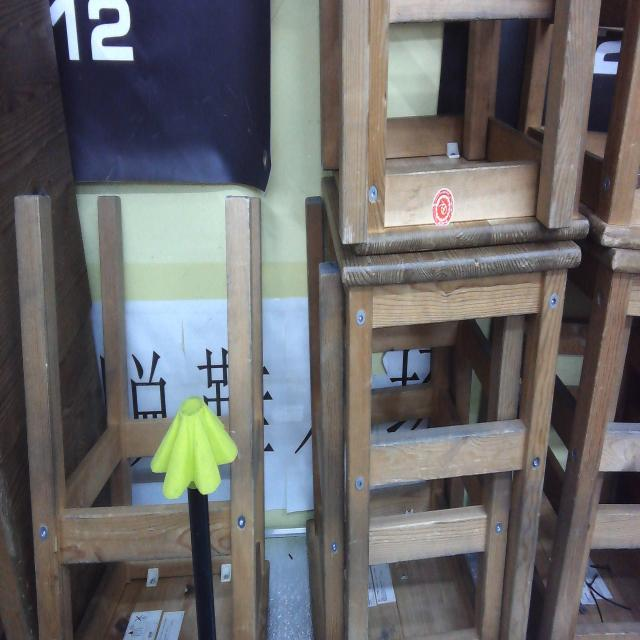Yellow-Stake-Head: (150, 396, 238, 500)
